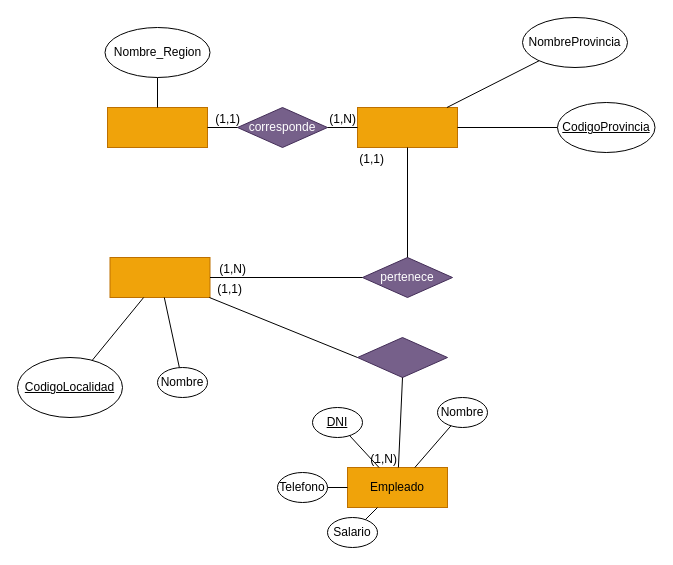
Some shapes in this 673 by 565 pixel diagram are drawn without their labels. Each missing label, with the box of its shape:
Localidad: (109, 256, 210, 298)
nacido: (356, 336, 448, 378)
Provincia: (356, 106, 458, 148)
Region: (106, 106, 208, 148)
